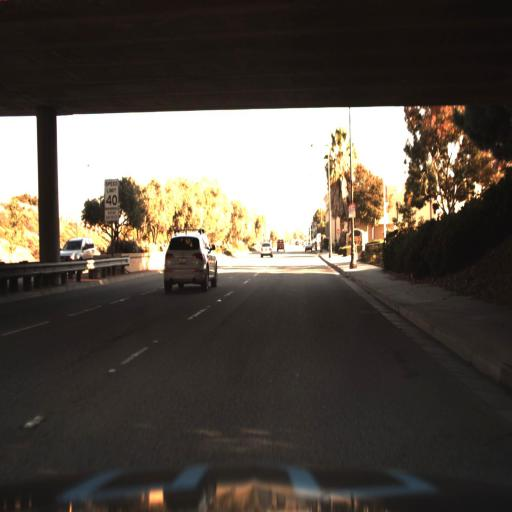car: (149, 219, 224, 299), (59, 235, 97, 270), (255, 236, 276, 262), (273, 236, 291, 255)
